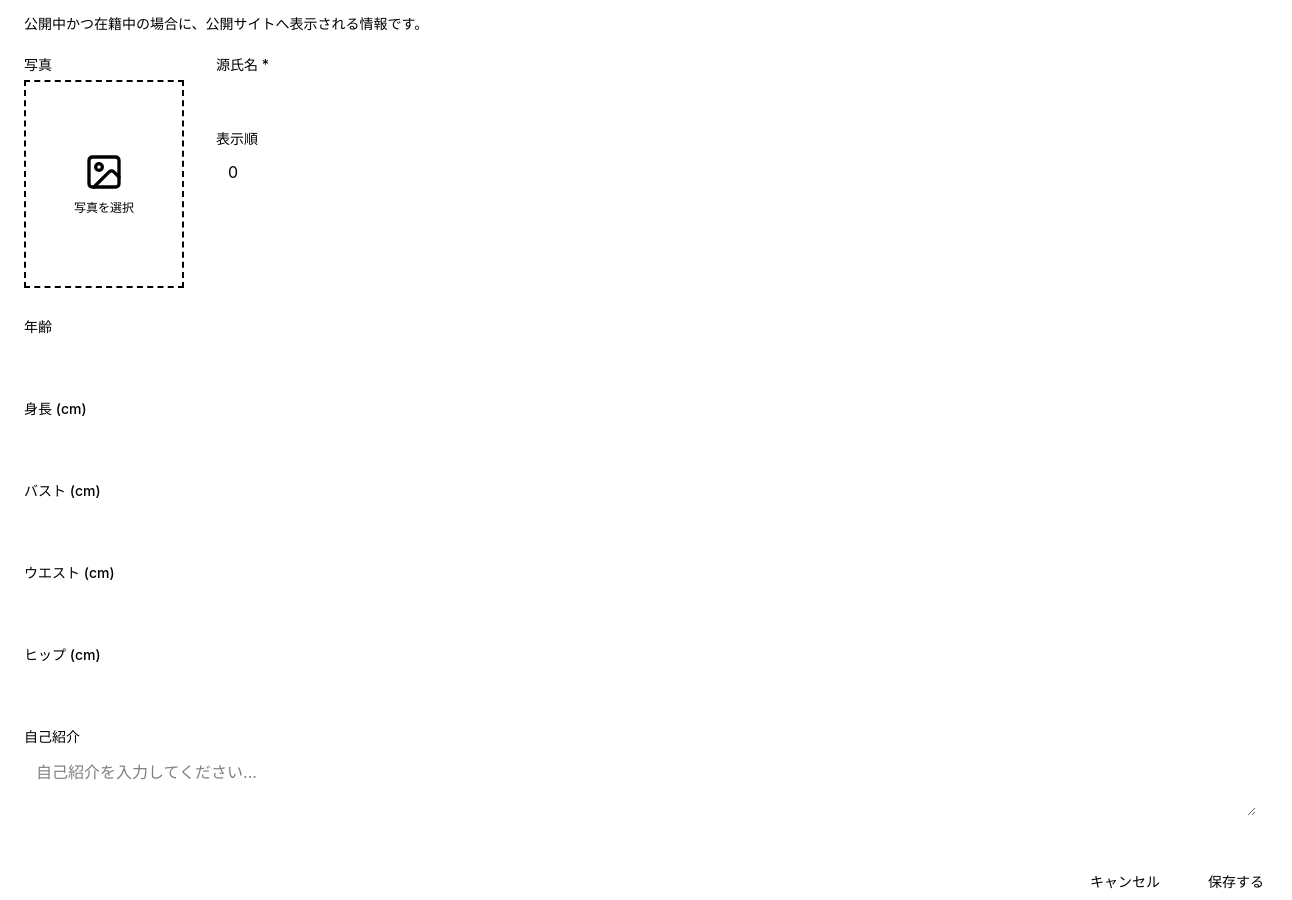
Test: 源氏名は応募者の氏名から写さず、入店日は当日を既定とする
(page scrolled)
Expected: the field labelled "源氏名 *" is empty, [216, 80, 1256, 116]
Click the button "保存する": {"x": 1236, "y": 882} [1192, 864, 1280, 899]
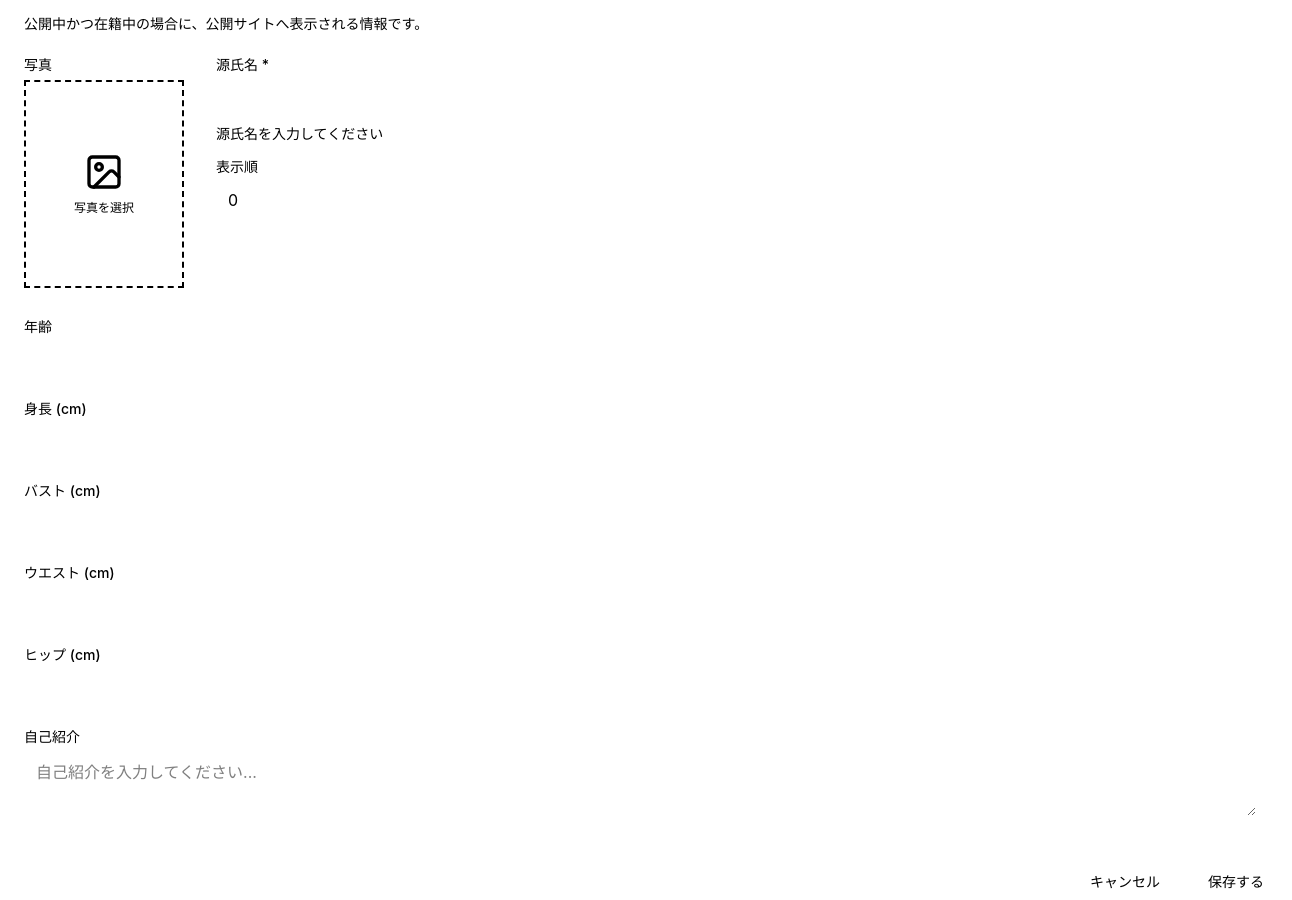
Expected: the text "源氏名を入力してください" is shown, [216, 125, 383, 142]
